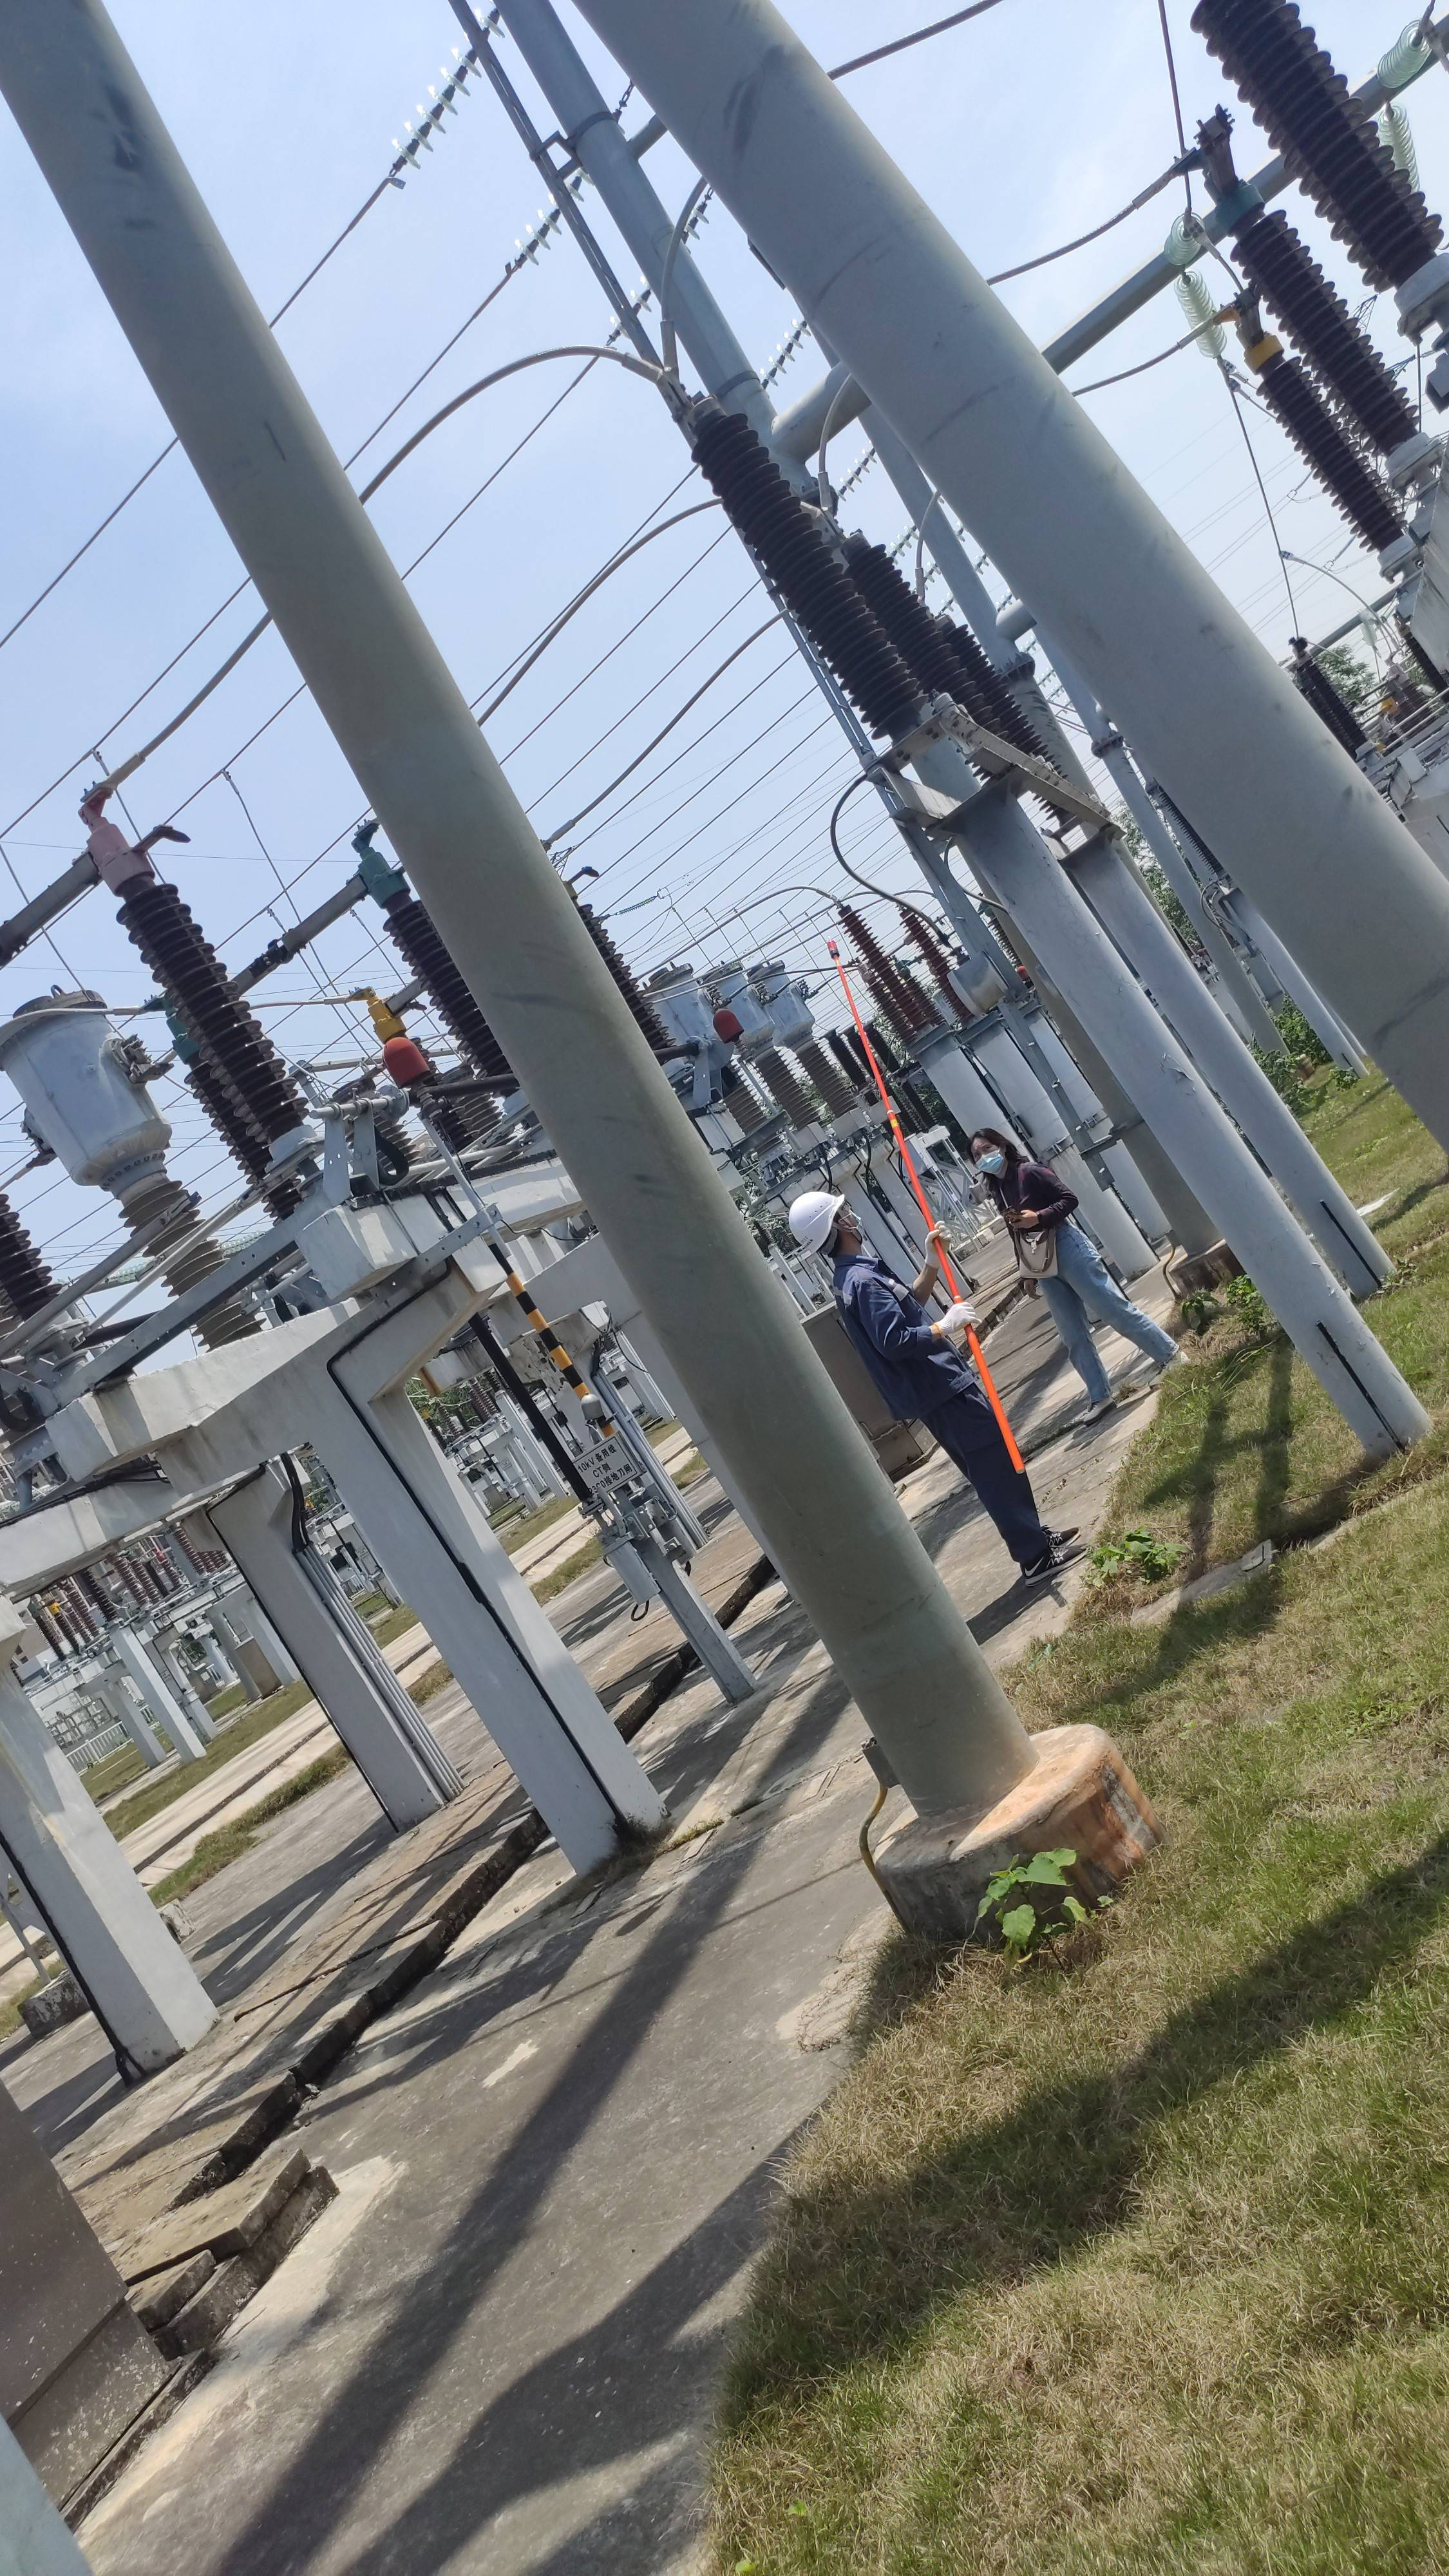downcloth: (1030, 1230, 1180, 1405)
downsuit: (924, 1387, 1047, 1568)
upcloth: (987, 1161, 1079, 1231)
upsuit: (833, 1254, 980, 1422)
wrongtop: (908, 1261, 938, 1306)
